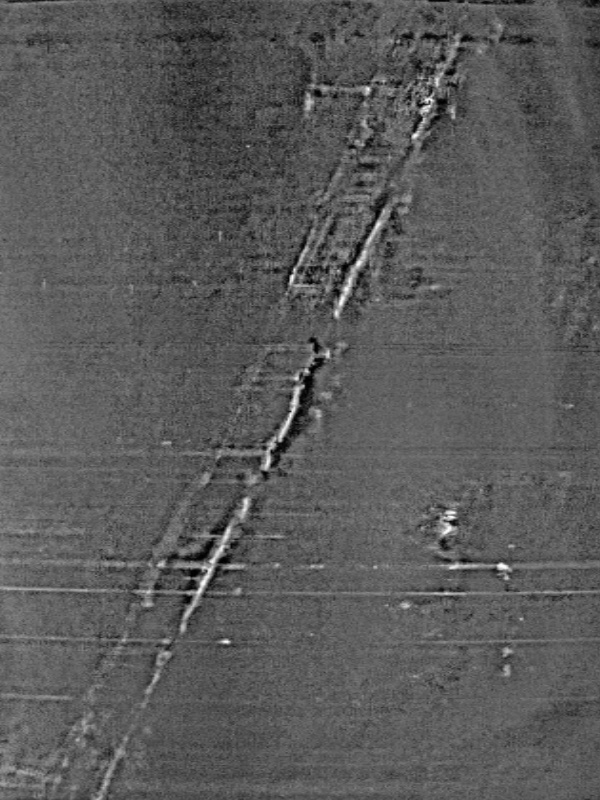splice_vulcanized: (19, 2, 474, 800)
